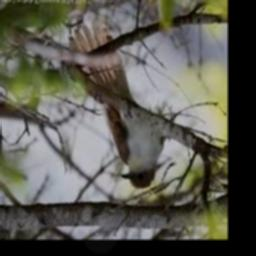Cuckoo: (68, 23, 165, 190)
